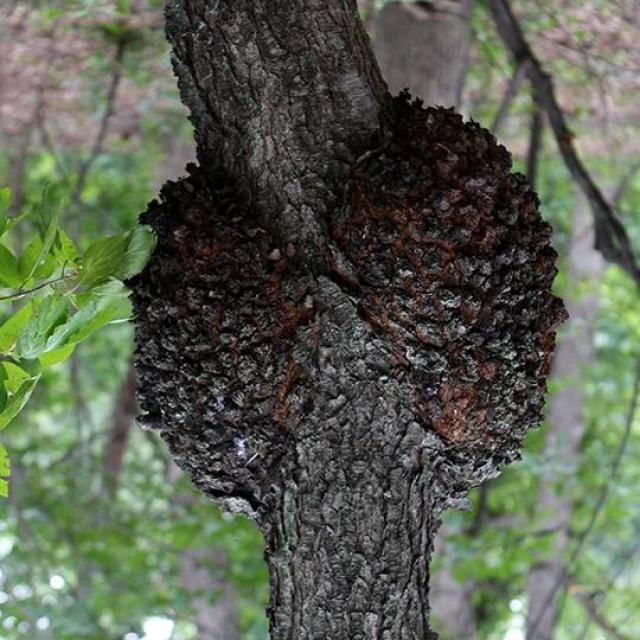Black_knot: (121, 0, 570, 639), (321, 85, 570, 499)
